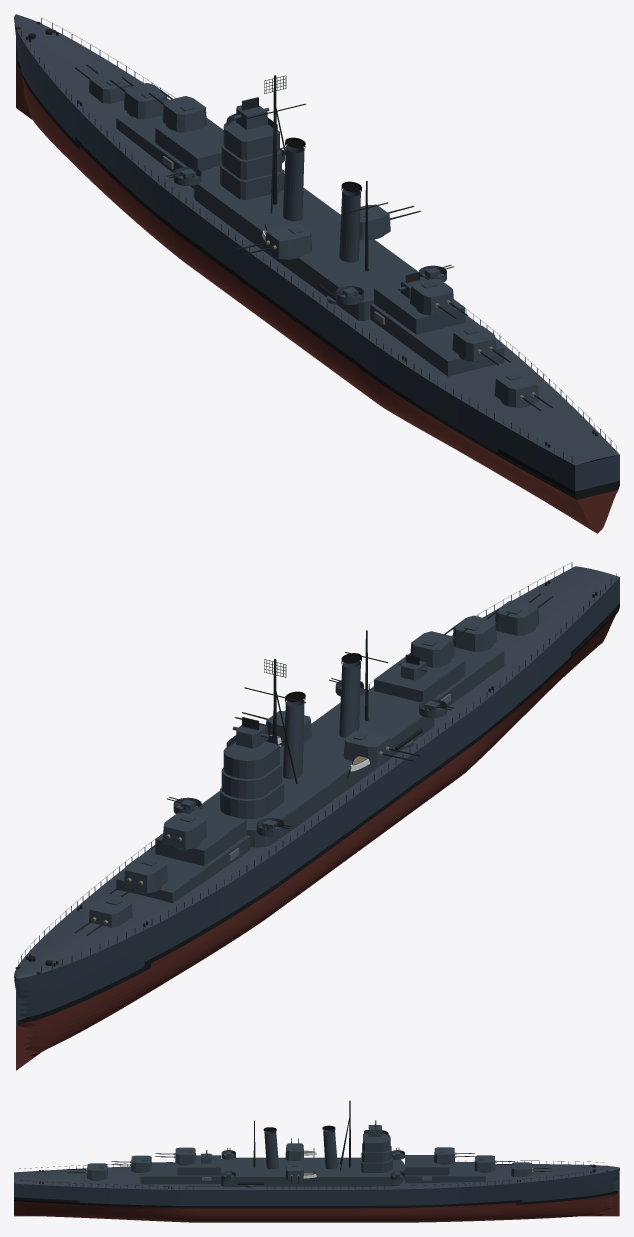
File: atlanta.glb
3 renders of one model, top to bottom at view 1: azimuth 30°, elevation 25°; view 2: azimuth 150°, elevation 25°; view 3: azimuth 270°, elevation 25°, orthographic. The views are drawn at different scales.
Parts seen in each view (by area): view 1: Hull, Mount58, Mount55, Mount54, Mount56, Mount53, Mount52, Mount51, Mount57, Director; view 2: Hull, Mount58, Mount52, Mount53, Mount55, Mount54, Mount56, Mount51, Director; view 3: Hull, Mount55, Mount56, Mount52, Mount53, Mount54, Mount51, Mount57, Mount58.
Part boxes in pixels (bbox=[...]): Hull: bbox=[14, 14, 619, 533]; Mount58: bbox=[235, 223, 312, 259]; Mount55: bbox=[452, 325, 510, 365]; Mount54: bbox=[494, 371, 552, 410]; Mount56: bbox=[410, 279, 468, 318]; Mount53: bbox=[149, 90, 206, 132]; Mount52: bbox=[110, 77, 167, 119]; Mount51: bbox=[75, 64, 131, 103]; Mount57: bbox=[359, 204, 420, 240]; Director: bbox=[232, 97, 269, 129]; Hull: bbox=[14, 562, 619, 1070]; Mount58: bbox=[343, 729, 420, 765]; Mount52: bbox=[110, 856, 168, 896]; Mount53: bbox=[149, 813, 206, 852]; Mount55: bbox=[453, 609, 510, 651]; Mount54: bbox=[495, 593, 552, 635]; Mount56: bbox=[410, 625, 468, 667]; Mount51: bbox=[74, 896, 132, 935]; Director: bbox=[232, 717, 269, 748]; Hull: bbox=[14, 1100, 619, 1222]; Mount55: bbox=[111, 1155, 151, 1173]; Mount56: bbox=[155, 1147, 195, 1165]; Mount52: bbox=[474, 1155, 515, 1172]; Mount53: bbox=[434, 1147, 474, 1164]; Mount54: bbox=[67, 1163, 107, 1180]; Mount51: bbox=[511, 1162, 551, 1176]; Mount57: bbox=[285, 1163, 303, 1183]; Mount58: bbox=[285, 1138, 303, 1160].
Size of the model in its own units: 29.2 by 34.7 by 165.
